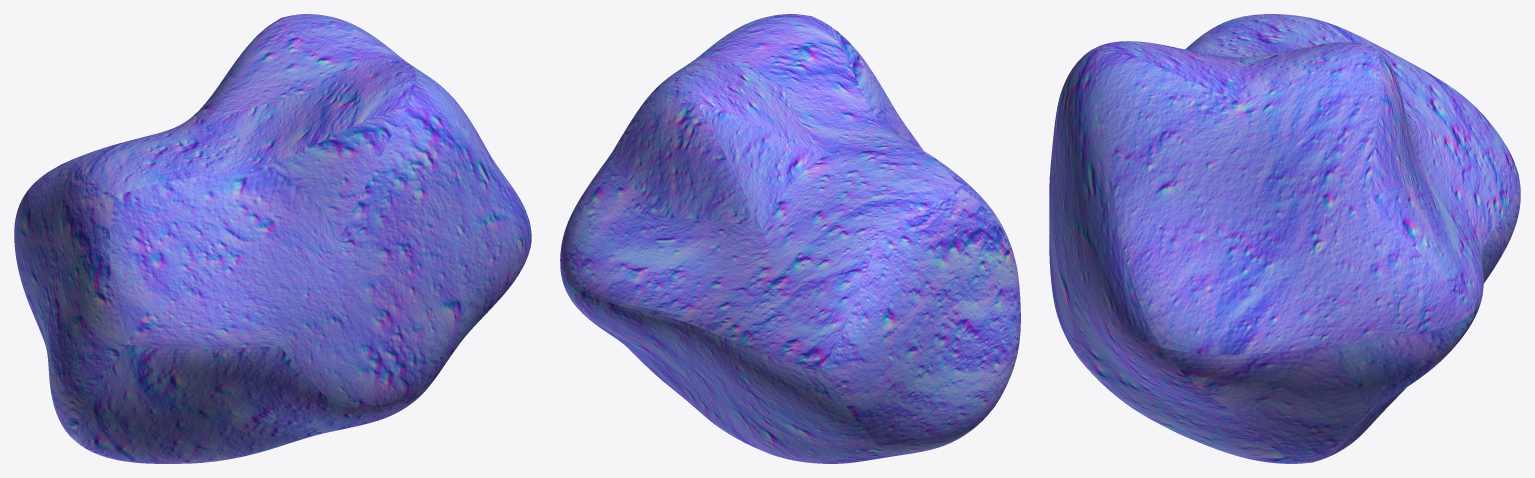
File: bigasteroid10_LOD0.fbx
The picture shows the model from 3 angles, left to right: view 1: azimuth 30°, elevation 25°; view 2: azimuth 150°, elevation 25°; view 3: azimuth 270°, elevation 25°; orthographic projection. The views are drawn at different scales.
Visible parts, largest first — view 1: Icosphere; view 2: Icosphere; view 3: Icosphere.
Part boxes in pixels (bbox=[...]): Icosphere: bbox=[14, 14, 531, 463]; Icosphere: bbox=[560, 14, 1020, 463]; Icosphere: bbox=[1049, 14, 1520, 463].
Bounding box in the file's own units: 290 × 244 × 244.
